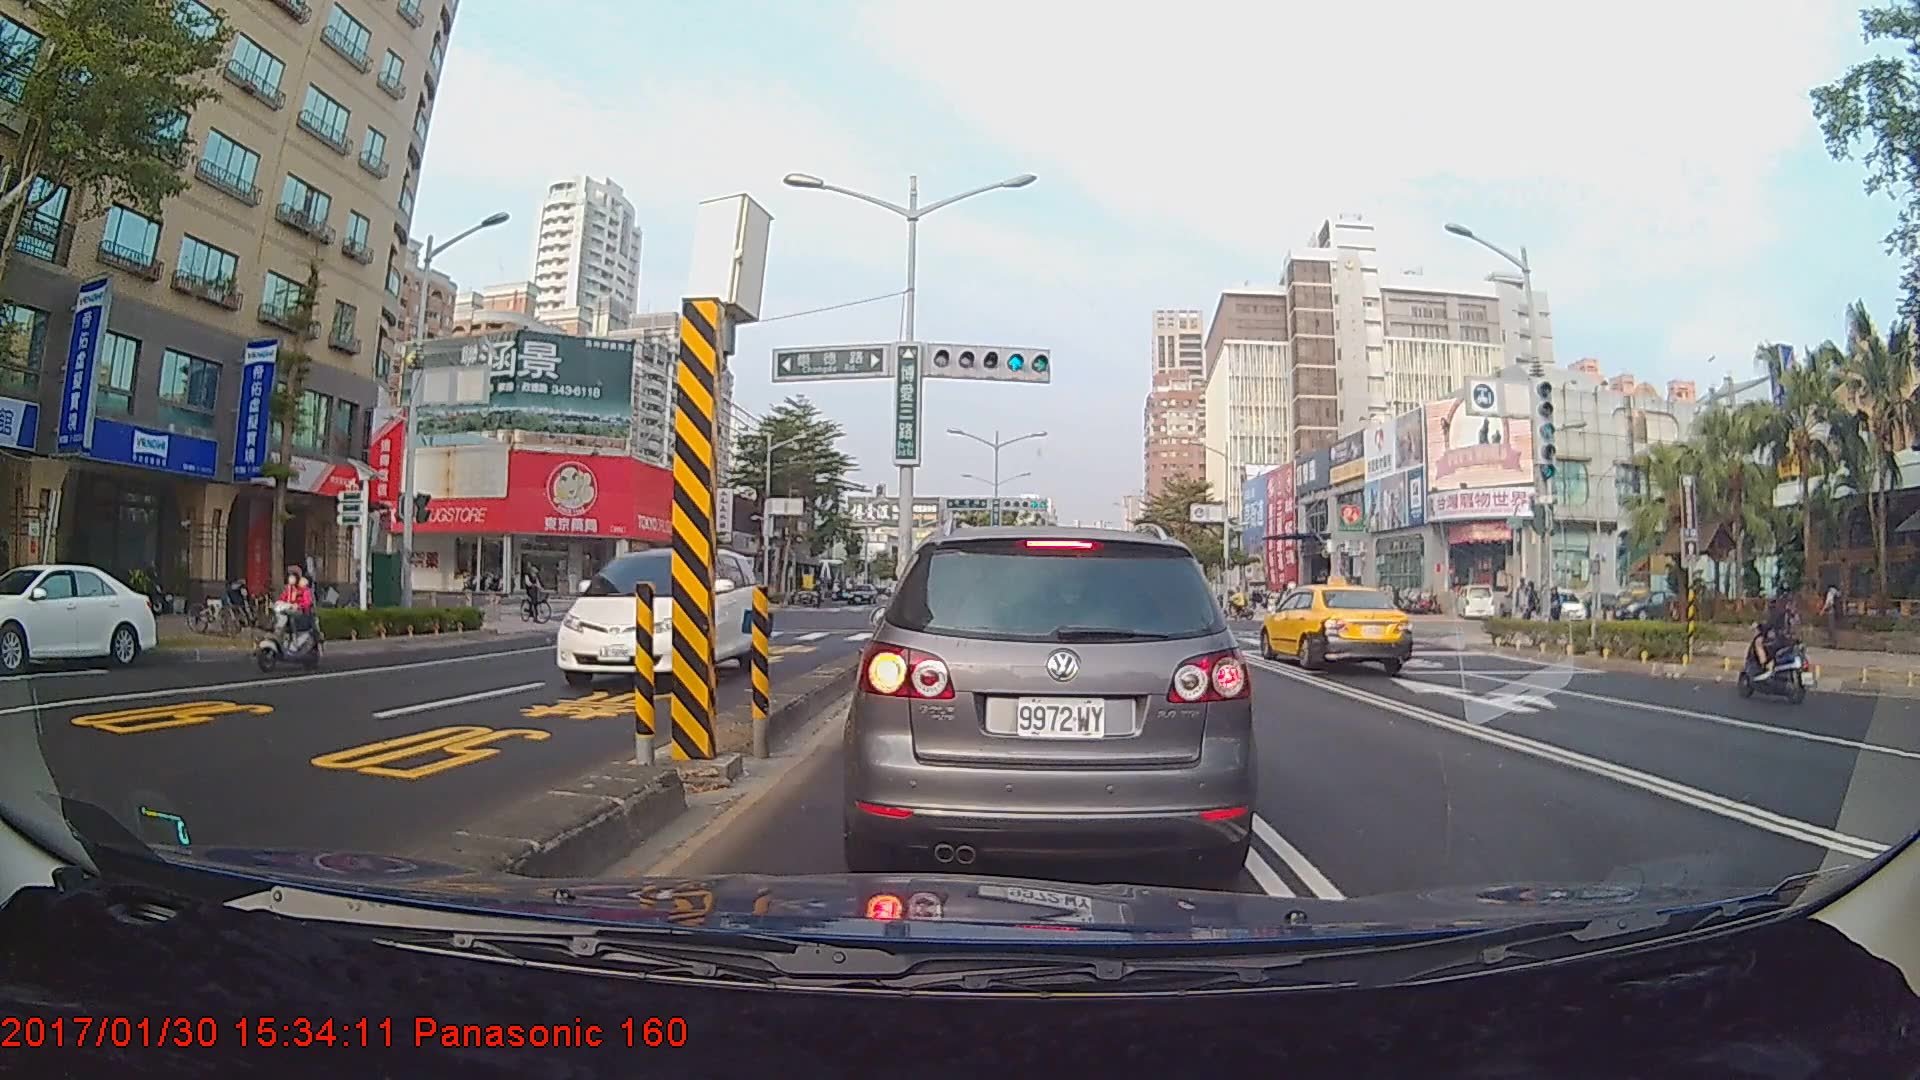pedestrian: (1820, 579, 1847, 649)
rider: (1731, 576, 1818, 709), (248, 562, 325, 679), (518, 559, 561, 629)
vehicle: (854, 519, 1251, 874), (556, 546, 766, 688), (0, 561, 158, 671), (1258, 580, 1415, 675)
